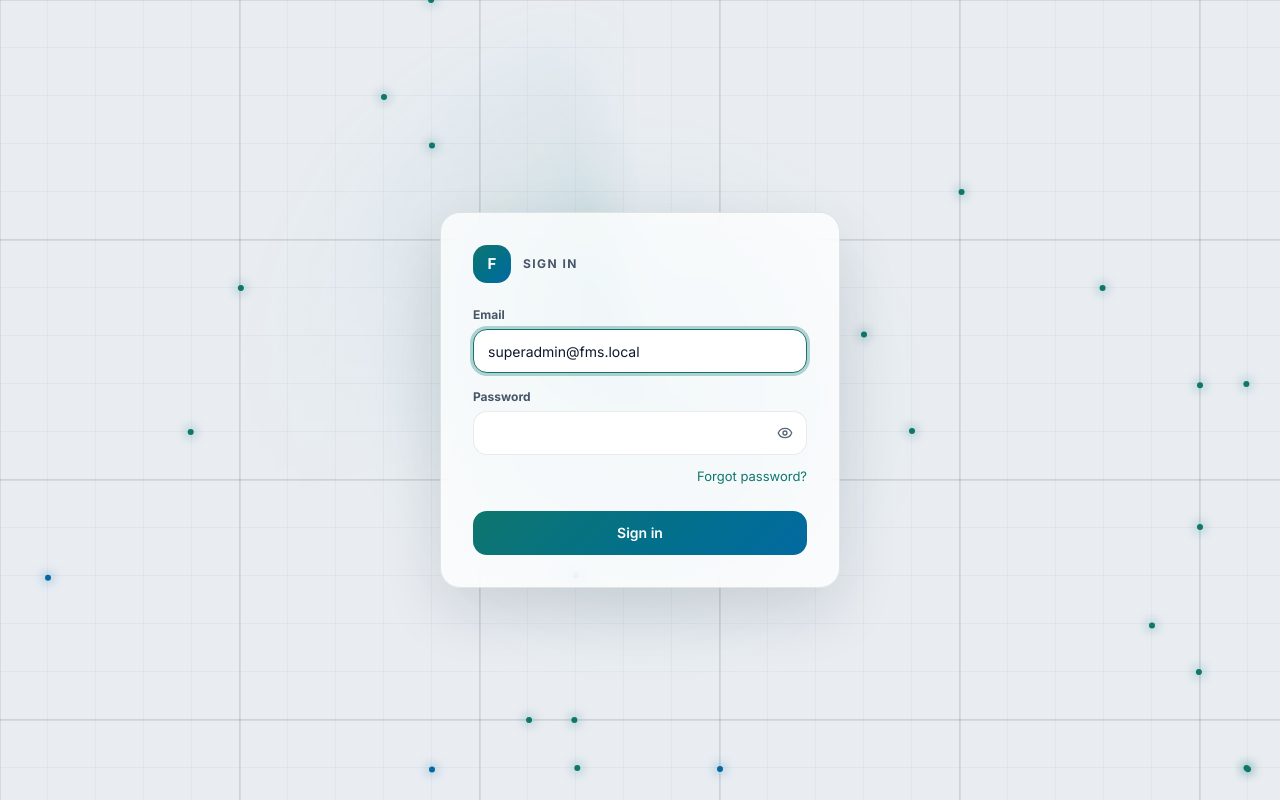
Test case: F02-T4: login › 401 → generic error; network → "couldn't reach"
The width and height of the screenshot is (1280, 800).
Expected: the heading "Sign in" is shown, [523,256,578,272]
In the password field labelled "Password": [640, 433] box [473,411,807,455], type "wrong"
Then press Enter
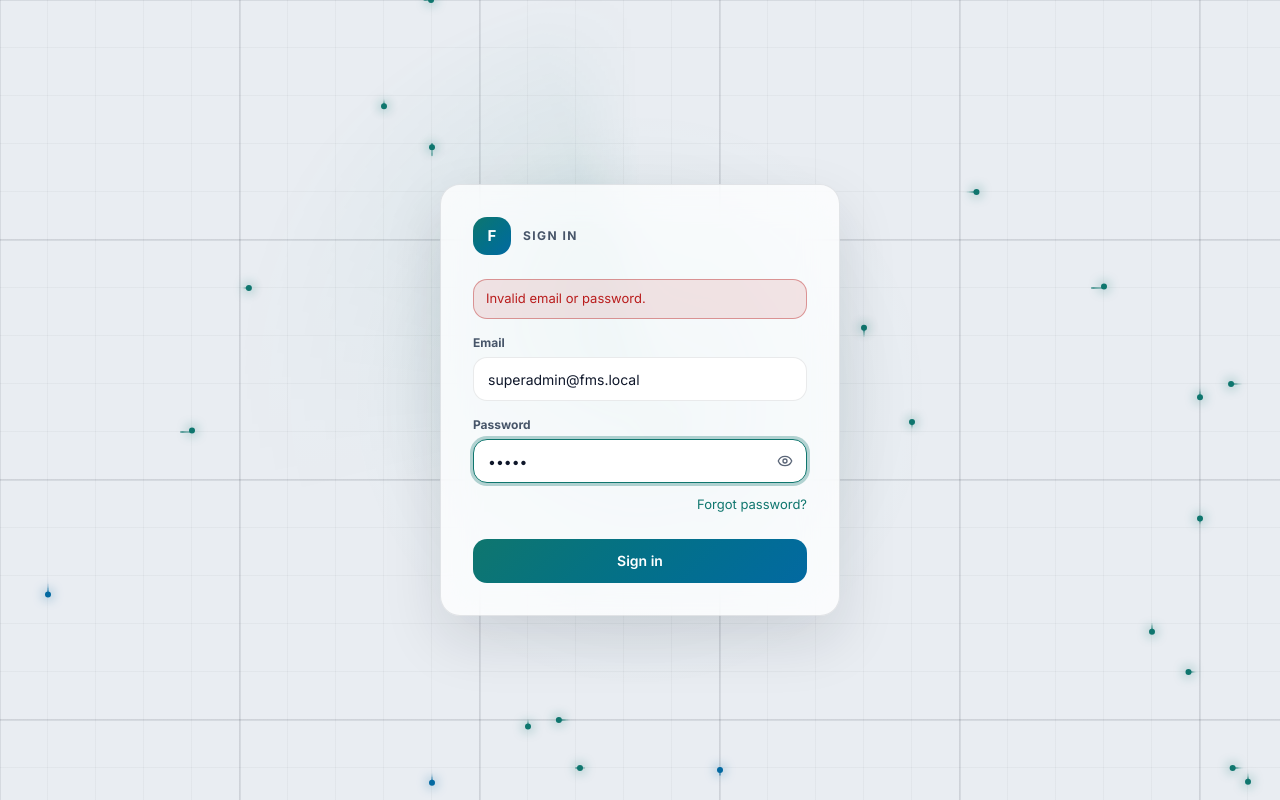
Expected: the message reads "Invalid email or password.", [486,290,646,306]
Click the button "Sign in": [640, 561] box [473,539,807,583]
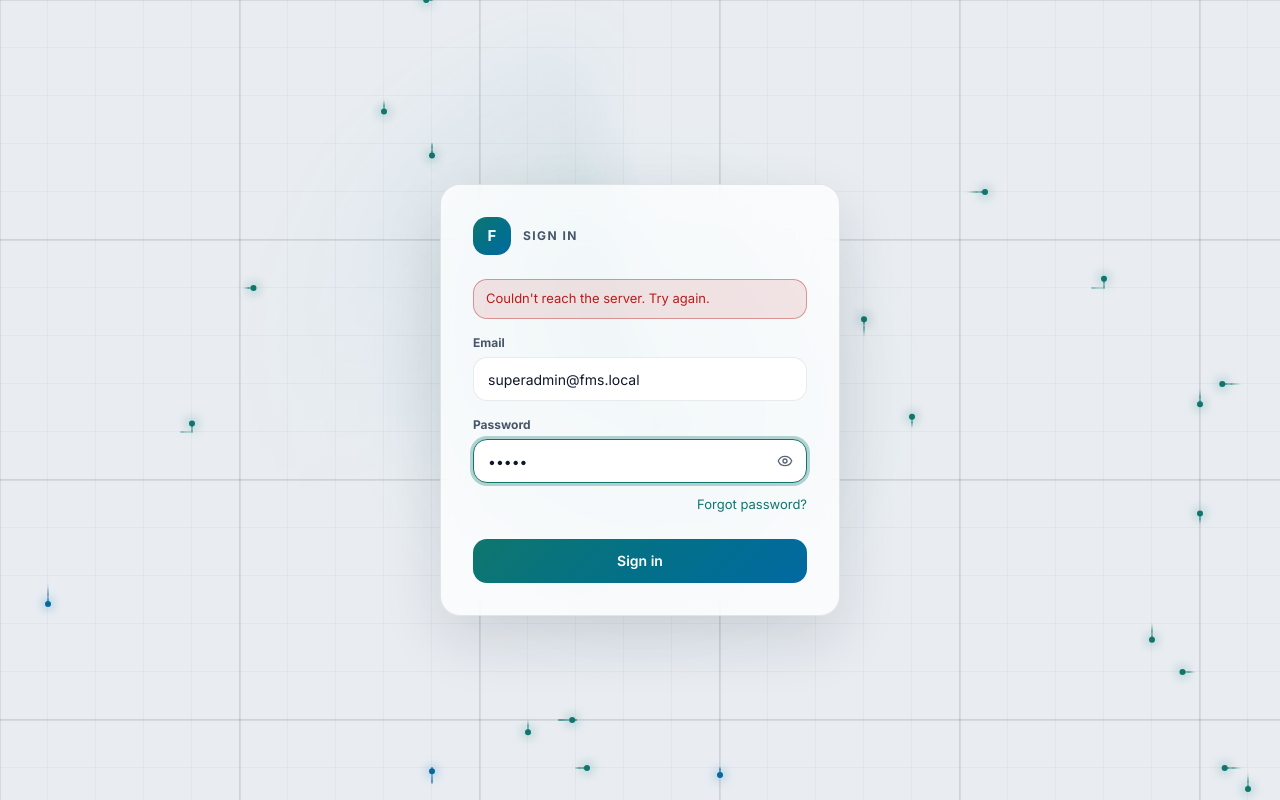
Expected: the message reads "Couldn't reach the server. Try again.", [486,290,710,306]
